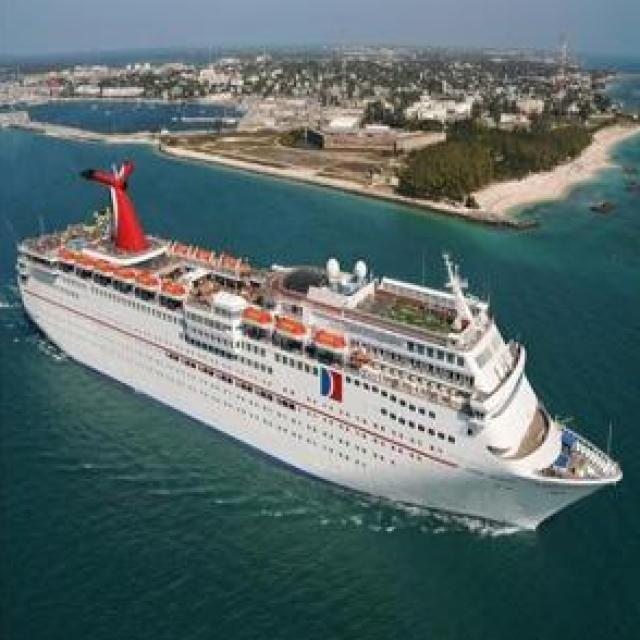passenger ship: (8, 163, 640, 559)
